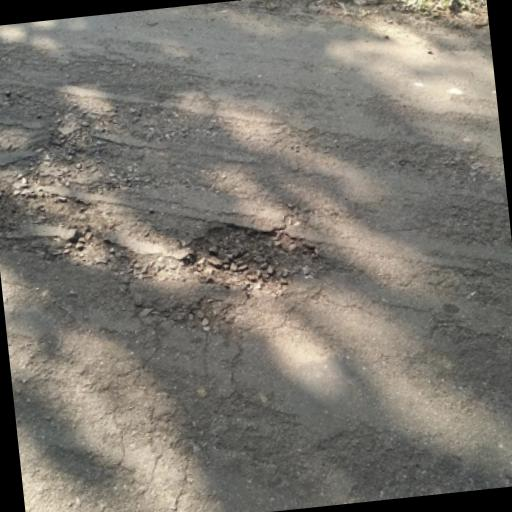pothole: (178, 209, 331, 299)
